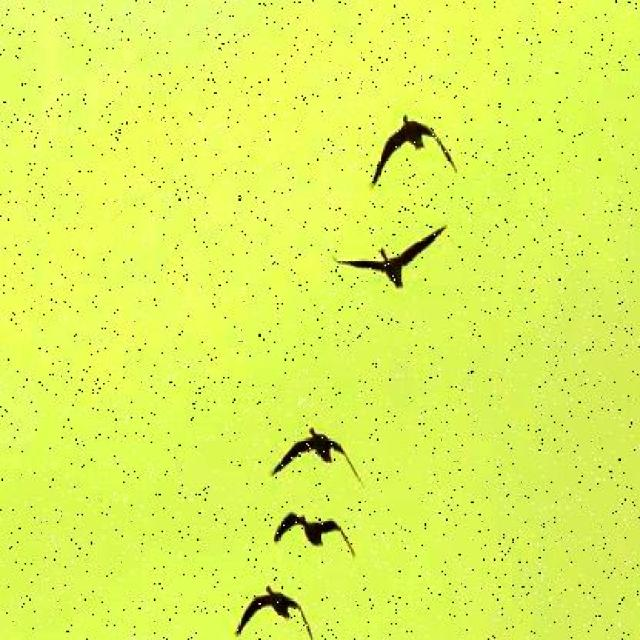bird: (335, 222, 490, 316), (185, 560, 352, 638), (360, 88, 471, 203), (252, 491, 390, 583), (260, 390, 378, 481)
